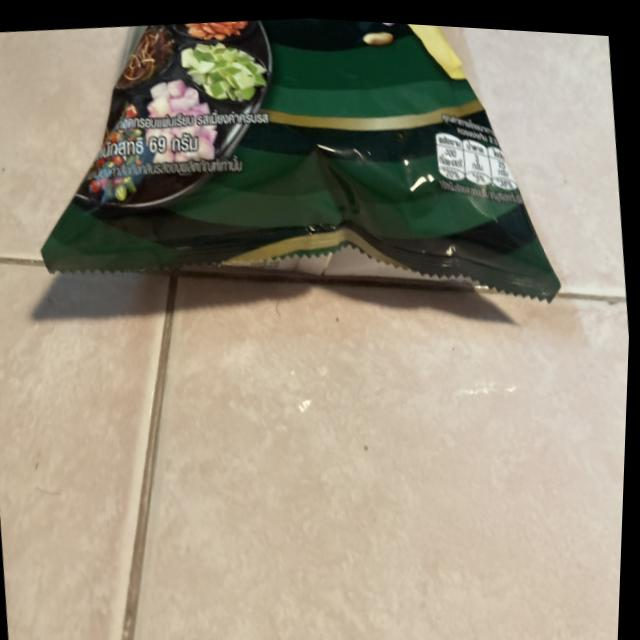Laygreen: (16, 1, 591, 350)
